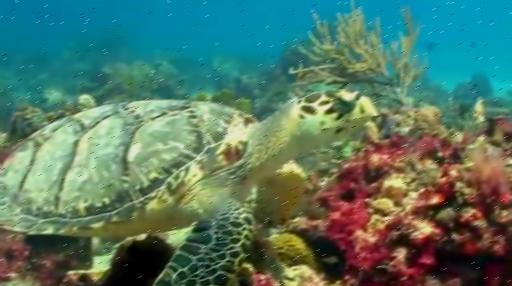Fish: (0, 90, 376, 285), (171, 90, 376, 285)
